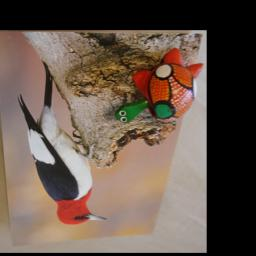Woodpecker: (17, 60, 107, 227)
